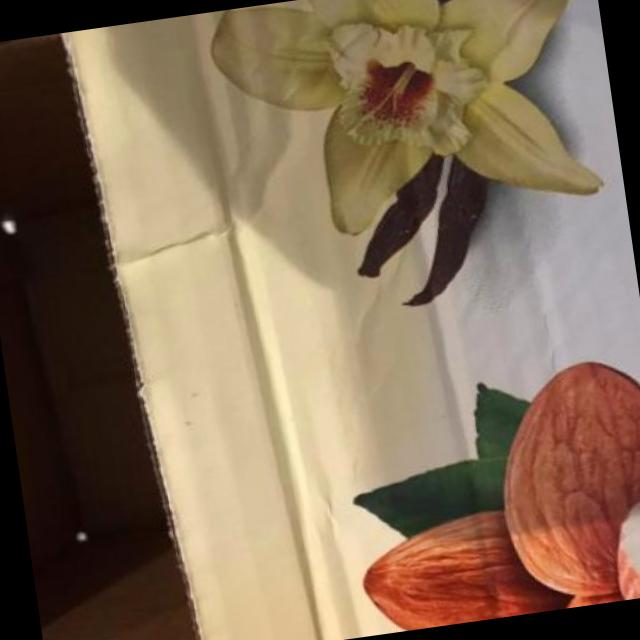cardboard paper: (65, 0, 640, 640)
